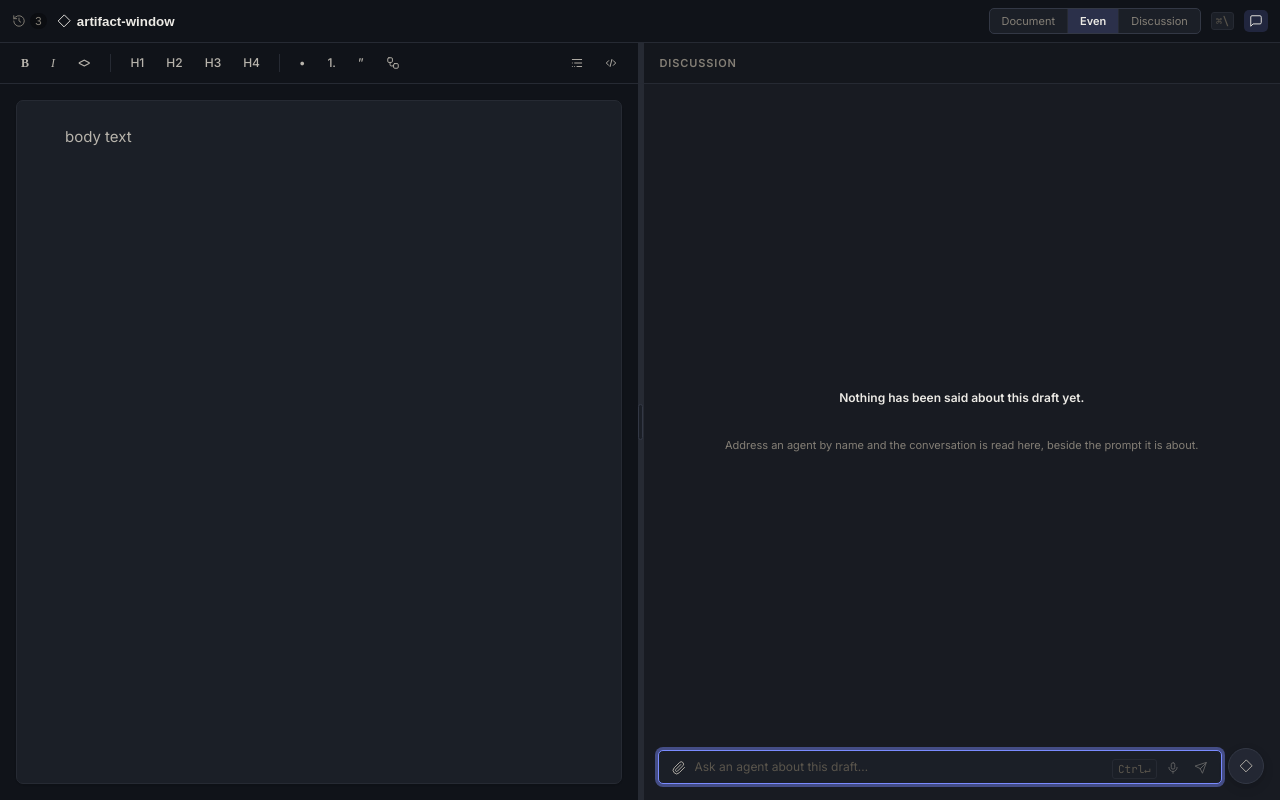
Test: New Artifact discussions (NAW-FR-31 … NAW-FR-34, CMT-FR-52 … CMT-FR-55) › NAW-FR-32, CMT-FR-53: a message addressing nobody opens a discussion, and a second post opens a second one
Type "thinking aloud" into the text box named "Discuss this draft" at x=901, y=767, box [694, 755, 1108, 779]
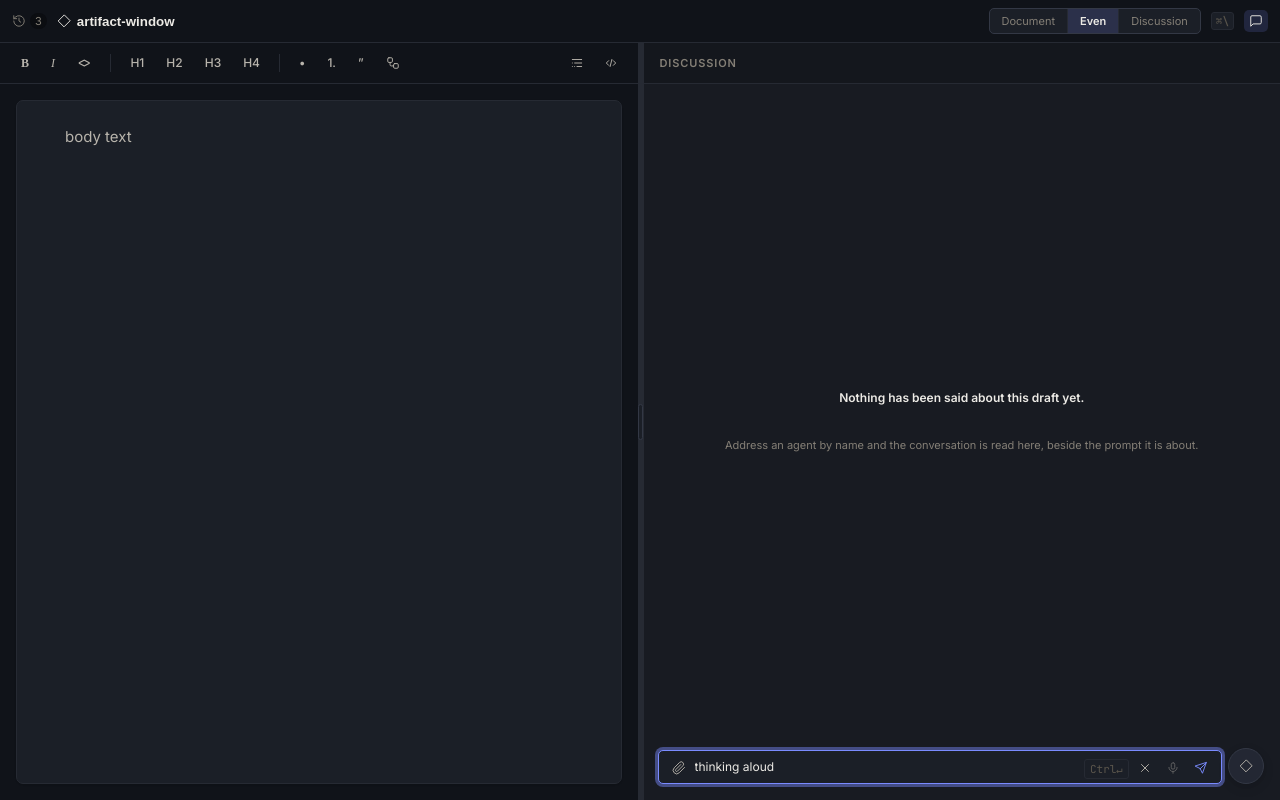
Click the button named "Post" at x=1201, y=768, box [1189, 757, 1213, 779]
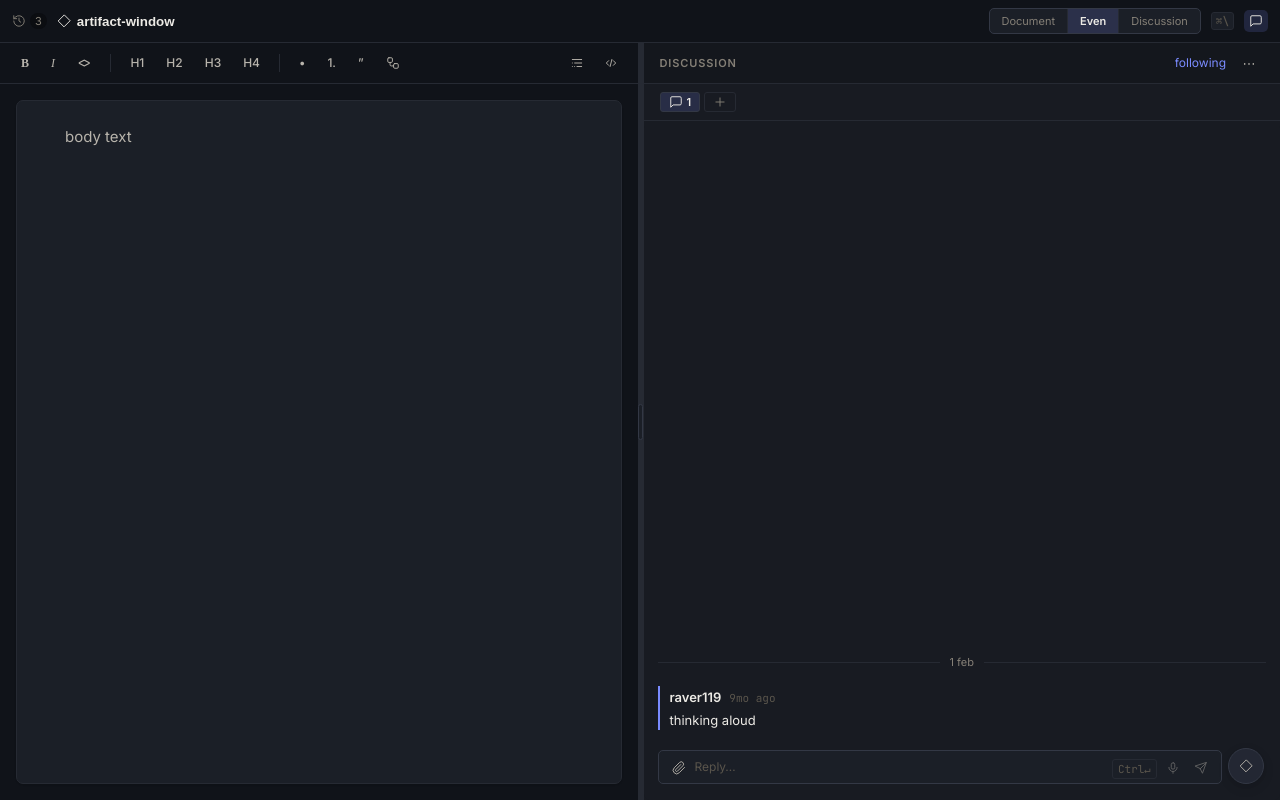
Now the element with test id "comment-thread-disc-1" is shown, box [644, 121, 1279, 799]
Click the button with test id "discussion-new" at x=720, y=102, box [704, 92, 736, 112]
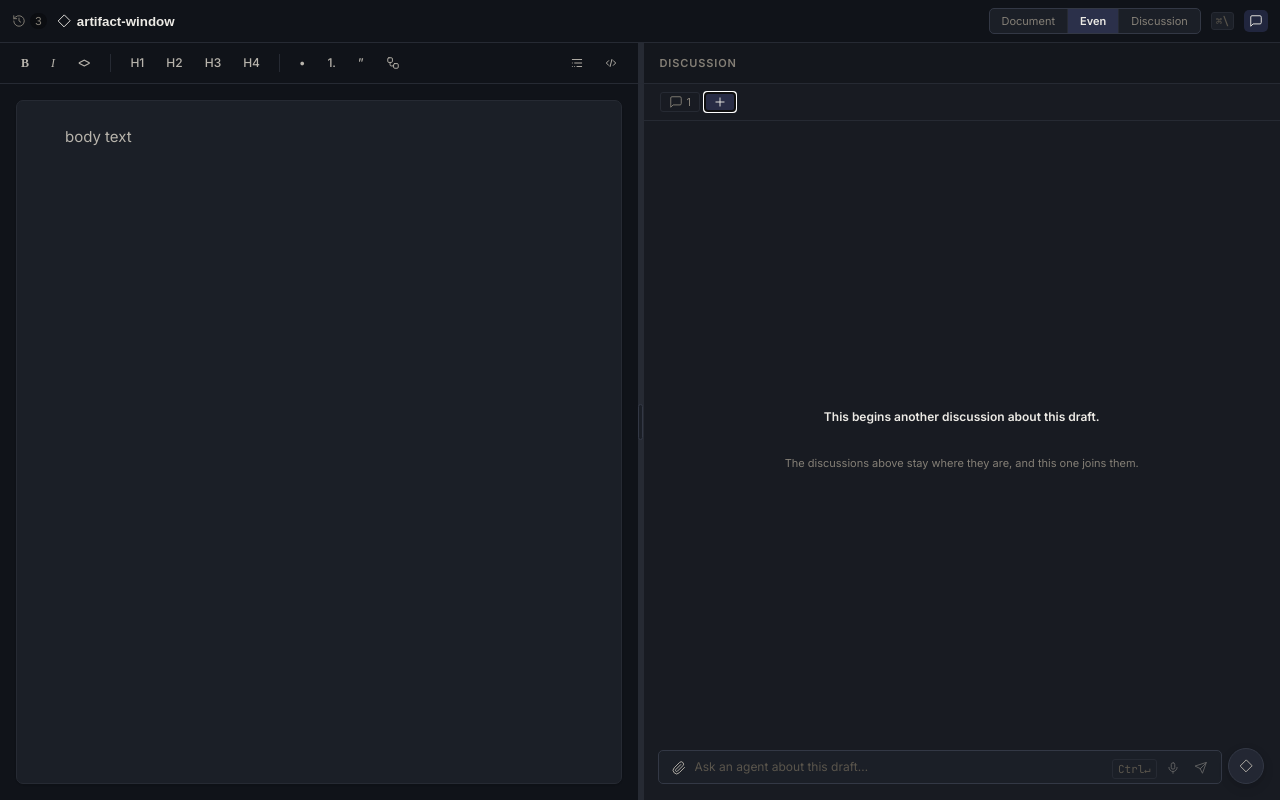
Type "a separate thought" into the text box named "Discuss this draft" at x=901, y=767, box [694, 755, 1108, 779]
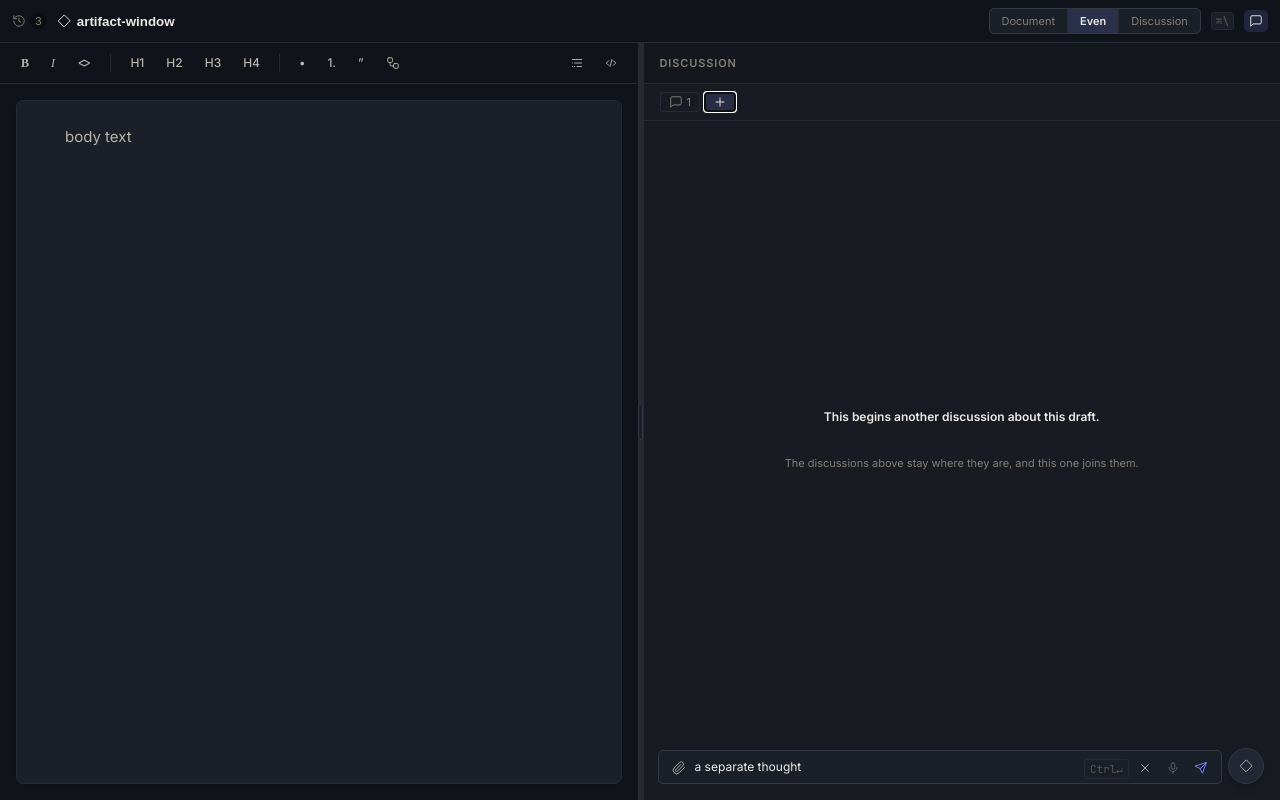
Click the button named "Post" at x=1201, y=768, box [1189, 757, 1213, 779]
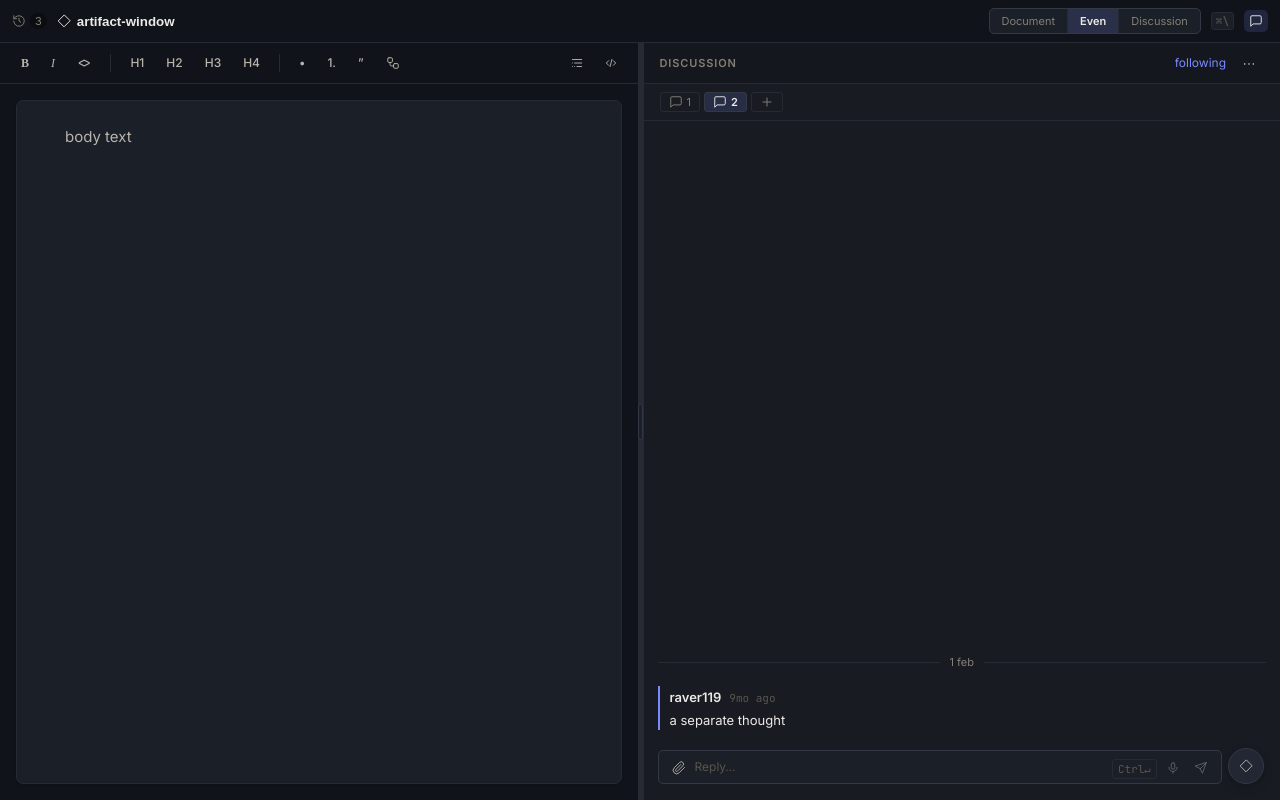
Now the number of tabs is 2, box [660, 92, 700, 112]; [704, 92, 747, 112]
